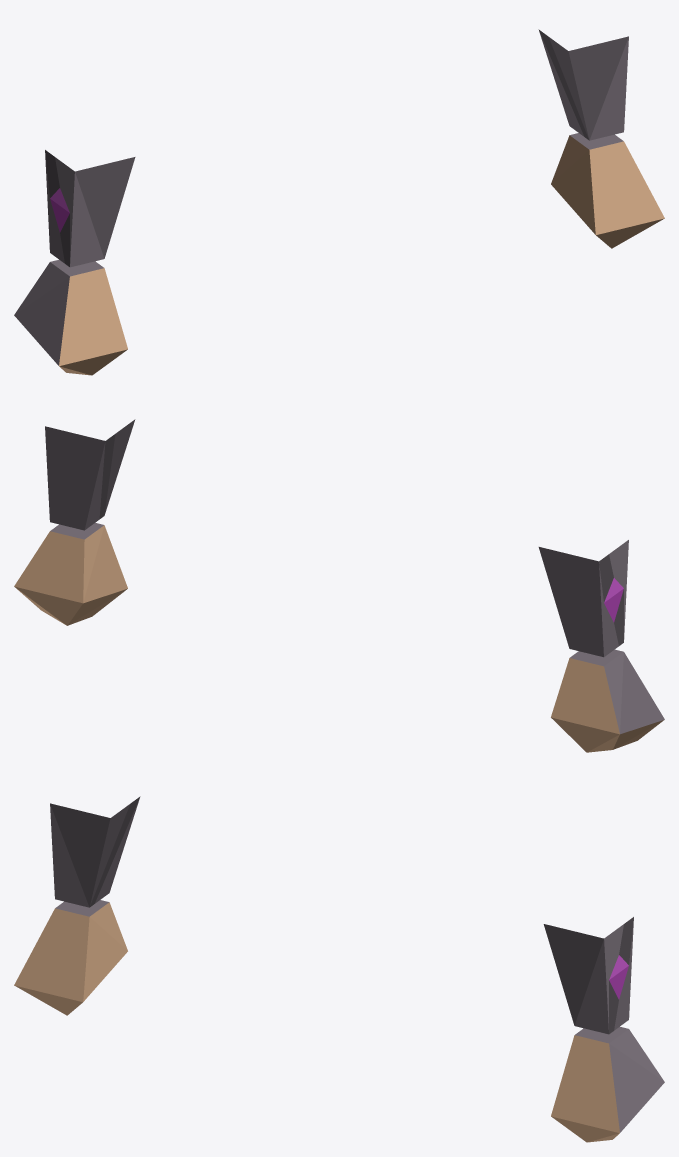
File: player_zaryte_vambraces.glb
3 views of the same model, one above another, from view 1: azimuth 30°, elevation 25°; view 2: azimuth 150°, elevation 25°; view 3: azimuth 330°, elevation 25° (orthographic).
Size of the model in its own units: 69.99 by 22.98 by 8.99.
Materials: 1 (1 with a texture image).
